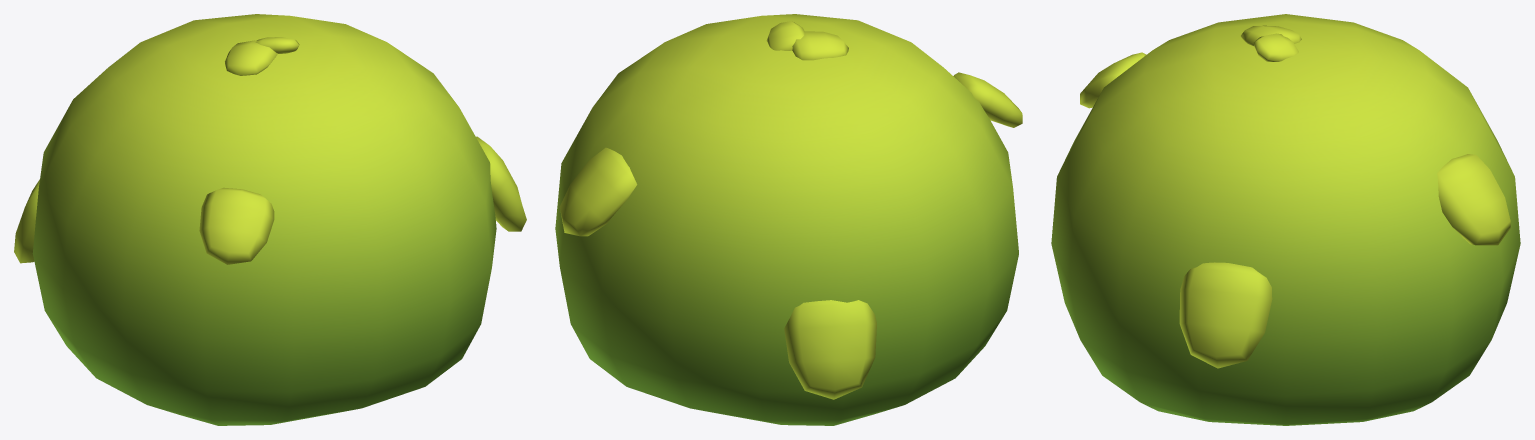
The model's file is Bush_01.fbx.
3 views of the same model, side by side, from view 1: azimuth 30°, elevation 25°; view 2: azimuth 150°, elevation 25°; view 3: azimuth 270°, elevation 25° (orthographic).
Parts seen in each view (by area): view 1: Bush; view 2: Bush; view 3: Bush.
Boxes of the visible parts, x1,y1,x2,y2 form: Bush: (14, 14, 526, 425); Bush: (555, 14, 1022, 425); Bush: (1051, 14, 1520, 425).
Bounding box in the file's own units: 0.7889 × 0.5865 × 0.7426.
Materials: 1 (1 with a texture image).
